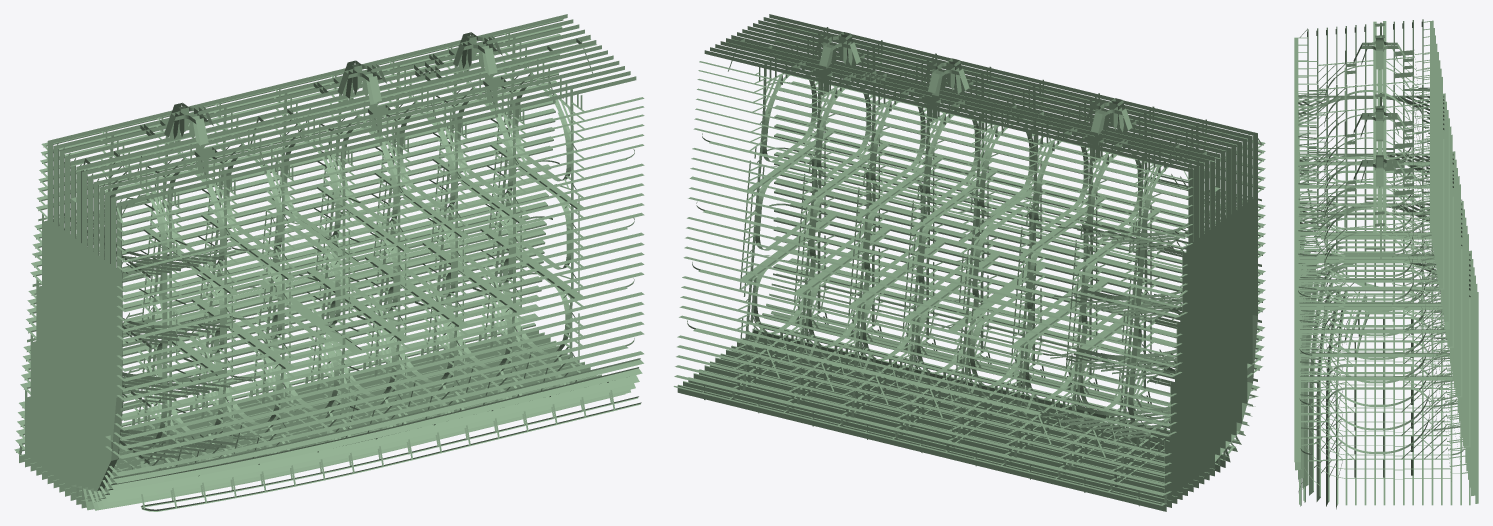
Rendered from NO_4_WING_WATER_BLT_TK_SB.glb.
3 views of the same model, side by side, from view 1: azimuth 30°, elevation 25°; view 2: azimuth 150°, elevation 25°; view 3: azimuth 270°, elevation 25° (orthographic). The views are drawn at different scales.
Visible parts, largest first — view 1: no part large enough to name; view 2: no part large enough to name; view 3: ST_SideTransxFR67SxWeb_136001-TW_795x21+180x31_NVA_1993, ST_SideTransxFR65SxWeb_082001-TW_795x21+180x31_NVA_1993, ST_SideTransxFR63SxWeb_194001-TW_795x21+180x31_NVA_1993, ST_SideTransxFR68SxWeb_105001-TW_595x12.5+150x25_NVA_1993, ST_SideTransxFR68SxWeb_082001-TW_795x21+180x31_NVA_1993, ST_SideTransxFR66SxWeb_113001-TW_595x12.5+150x25_NVA_1993, ST_SideTransxFR66SxWeb_136001-TW_795x21+180x31_NVA_1993, ST_SideTransBHDxBHD64SxWeb_212001-TW_795x21+180x31_NVA_1993, ST_SideTransxFR67SxWeb_113001-TW_595x12.5+150x25_NVA_1993, ST_SideTransxFR65SxWeb_105001-TW_595x12.5+150x25_NVA_1993, ST_SideTransxFR62SxWeb_194001-TW_795x21+180x31_NVA_1993, ST_SideTransxFR63SxWeb_195001-TW_595x12.5+150x25_NVA_1993 (+2 smaller).
Part boxes in pixels (x1,y1,x2,y2): ST_SideTransxFR67SxWeb_136001-TW_795x21+180x31_NVA_1993: [1300, 353, 1399, 357]; ST_SideTransxFR65SxWeb_082001-TW_795x21+180x31_NVA_1993: [1300, 306, 1399, 310]; ST_SideTransxFR63SxWeb_194001-TW_795x21+180x31_NVA_1993: [1300, 259, 1399, 263]; ST_SideTransxFR68SxWeb_105001-TW_595x12.5+150x25_NVA_1993: [1299, 303, 1399, 306]; ST_SideTransxFR68SxWeb_082001-TW_795x21+180x31_NVA_1993: [1300, 377, 1399, 380]; ST_SideTransxFR66SxWeb_113001-TW_595x12.5+150x25_NVA_1993: [1299, 256, 1399, 259]; ST_SideTransxFR66SxWeb_136001-TW_795x21+180x31_NVA_1993: [1300, 330, 1399, 333]; ST_SideTransBHDxBHD64SxWeb_212001-TW_795x21+180x31_NVA_1993: [1300, 286, 1399, 289]; ST_SideTransxFR67SxWeb_113001-TW_595x12.5+150x25_NVA_1993: [1299, 280, 1399, 282]; ST_SideTransxFR65SxWeb_105001-TW_595x12.5+150x25_NVA_1993: [1299, 233, 1399, 235]; ST_SideTransxFR62SxWeb_194001-TW_795x21+180x31_NVA_1993: [1321, 236, 1399, 239]; ST_SideTransxFR63SxWeb_195001-TW_595x12.5+150x25_NVA_1993: [1299, 186, 1399, 188].
Size of the model in its own units: 47.16 by 31.5 by 17.38.
